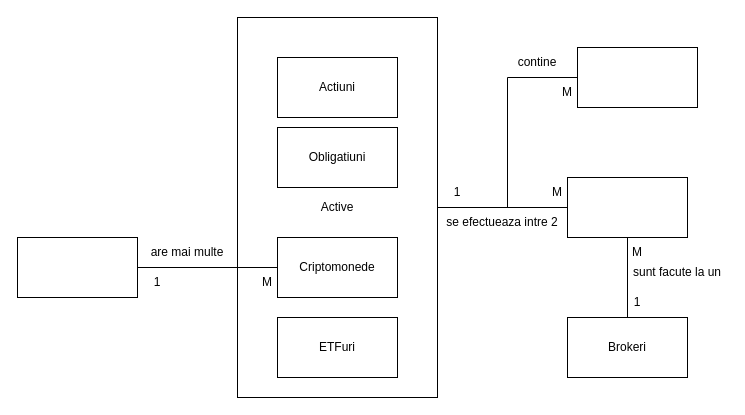
Image size: 745x415. Some labels were removed from this diagram. The centre of each missing label's shape, as x and y in pixels:
"Blockchain" belongs at point (77, 267).
"Detineri" belongs at point (637, 77).
"Tranzactii" belongs at point (627, 207).
